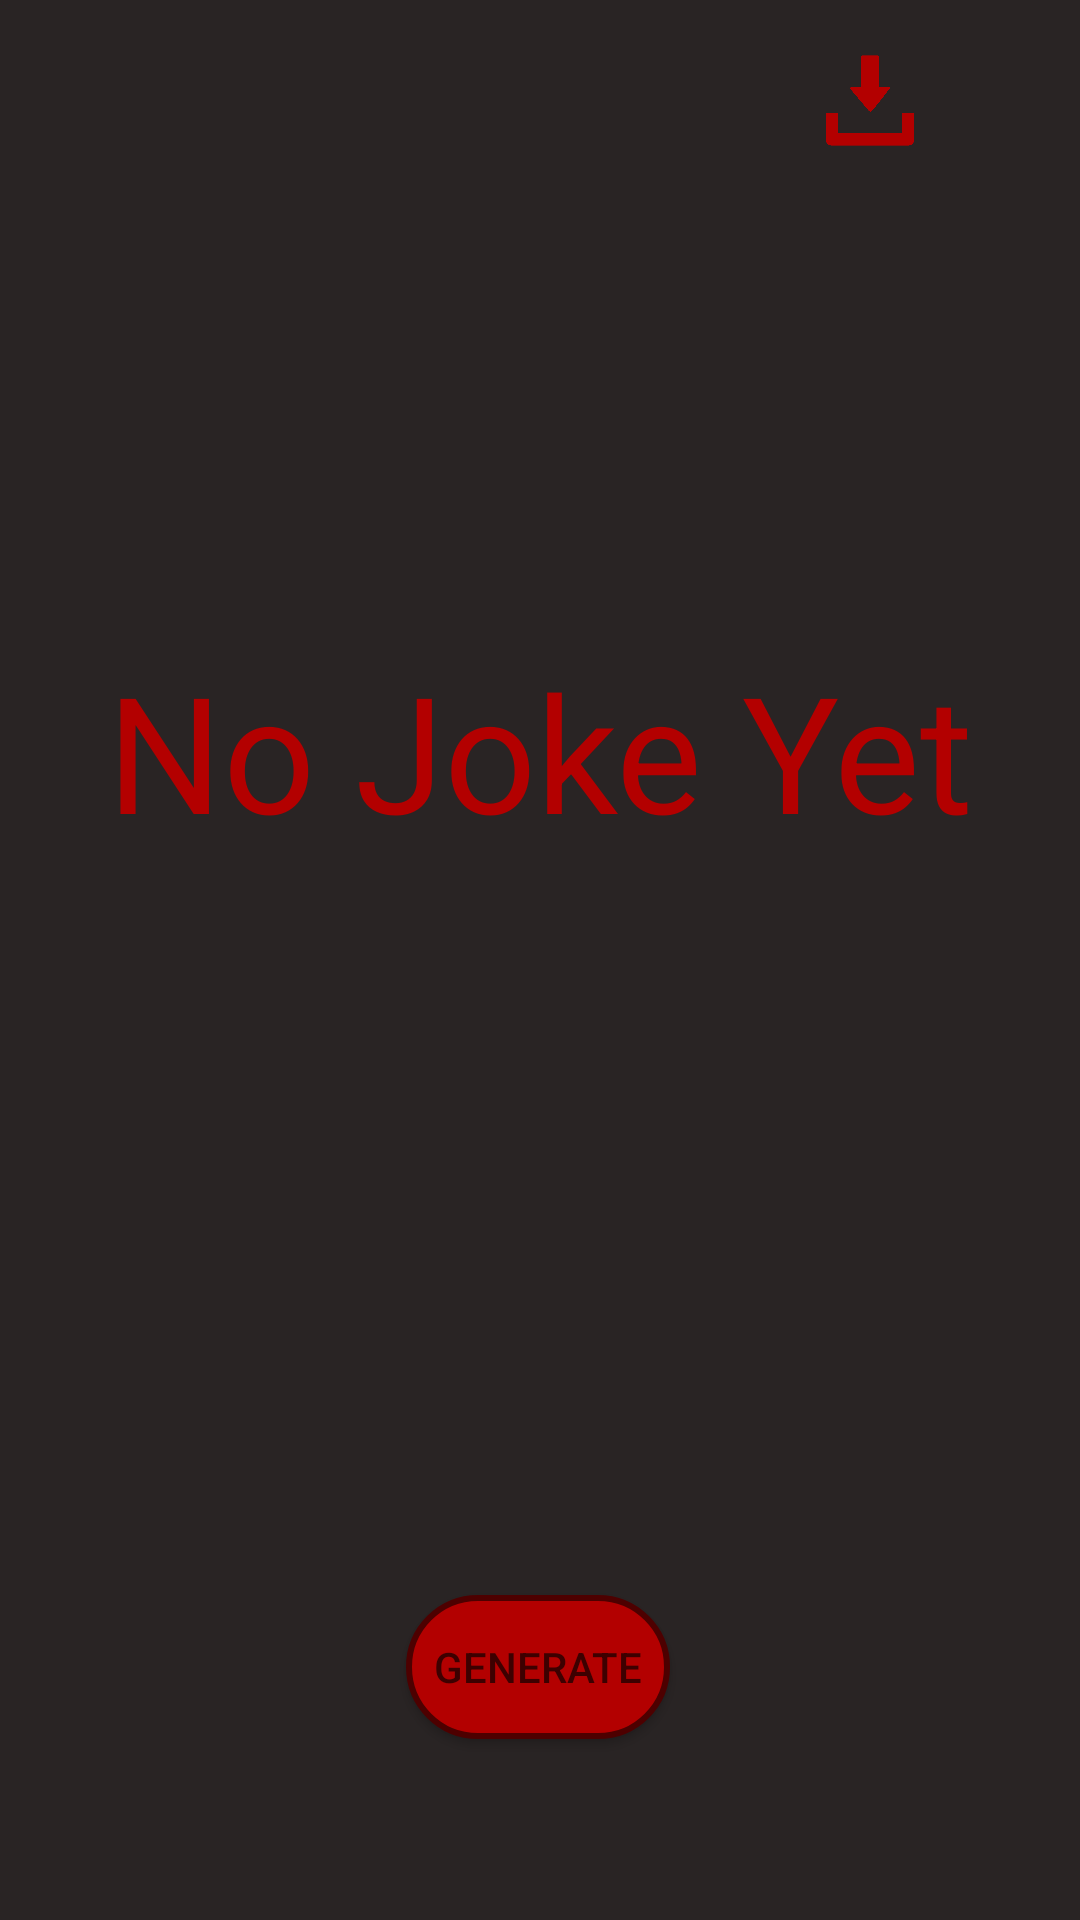

Locate icon controls on the screen. Image size 1080x1920, boxes as {"x1": x1, "y1": y1, "x2": x2, "y2": y2}.
downloadicon: {"x1": 826, "y1": 55, "x2": 914, "y2": 146}
